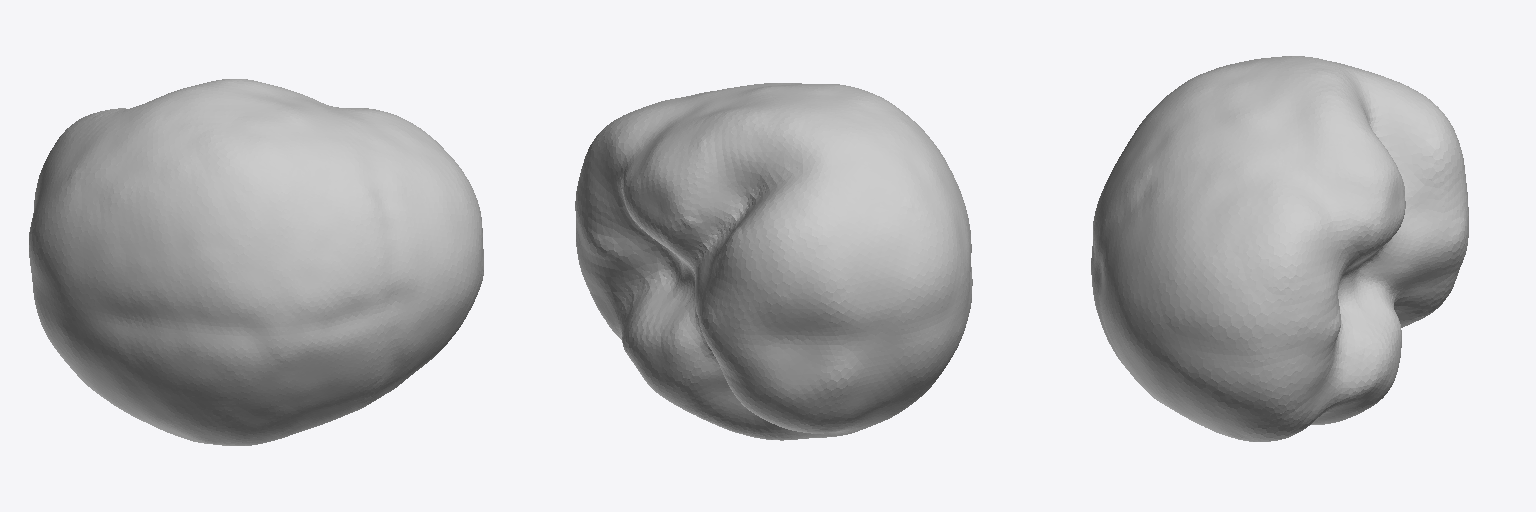
The model's file is neuron_mesh_very_smooth.obj.
3 views of the same model, side by side, from view 1: azimuth 30°, elevation 25°; view 2: azimuth 150°, elevation 25°; view 3: azimuth 270°, elevation 25° (orthographic).
Parts seen in each view (by area): view 1: neuron_mesh_simplified_hand_cleaned; view 2: neuron_mesh_simplified_hand_cleaned; view 3: neuron_mesh_simplified_hand_cleaned.
Boxes of the visible parts, x1,y1,x2,y2 form: neuron_mesh_simplified_hand_cleaned: [29, 79, 483, 445]; neuron_mesh_simplified_hand_cleaned: [575, 83, 972, 440]; neuron_mesh_simplified_hand_cleaned: [1091, 56, 1468, 441].
Size of the model in its own units: 185 by 146 by 153.